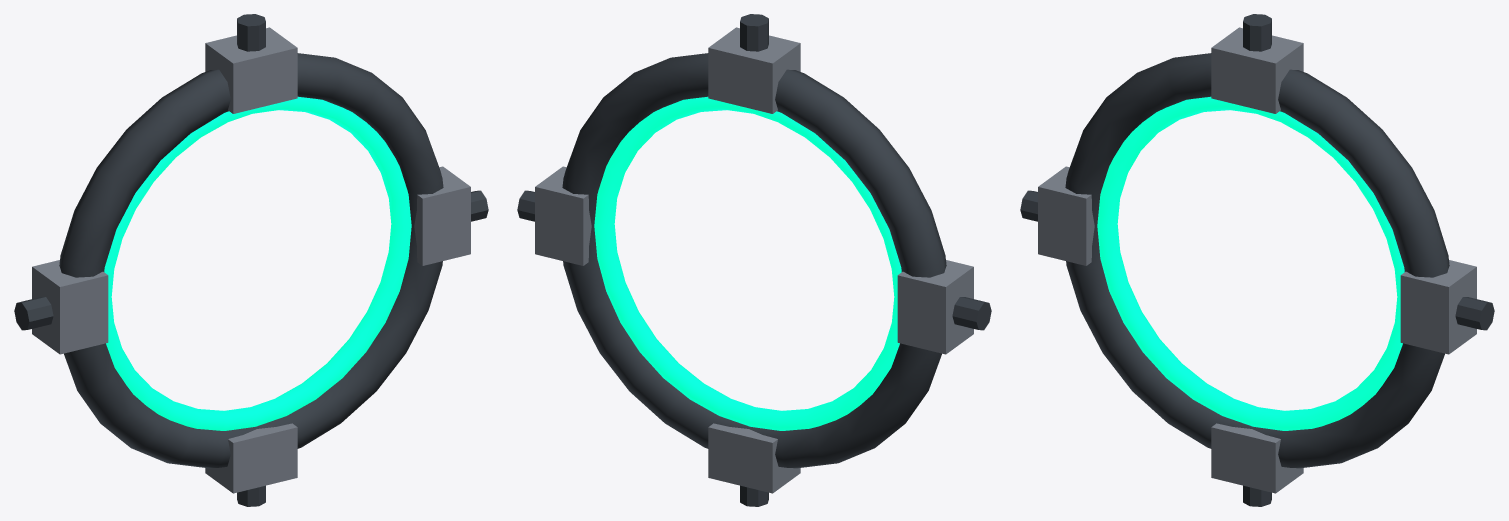
The model's file is Target_Gate.glb.
3 views of the same model, side by side, from view 1: azimuth 30°, elevation 25°; view 2: azimuth 150°, elevation 25°; view 3: azimuth 330°, elevation 25° (orthographic).
Visible parts, largest first — view 1: Target_Gate; view 2: Target_Gate; view 3: Target_Gate.
Boxes of the visible parts, left/top/right/bottom form: Target_Gate: left=14, top=14, right=488, bottom=506; Target_Gate: left=517, top=14, right=991, bottom=506; Target_Gate: left=1020, top=14, right=1494, bottom=506.
Bounding box in the file's own units: 2 × 2 × 0.2102.
